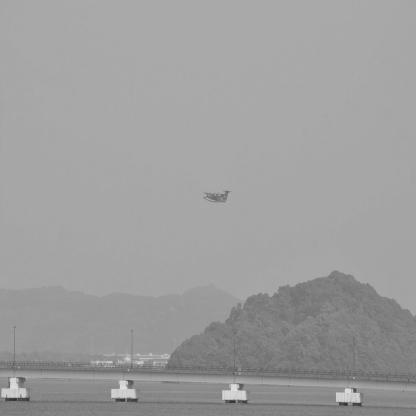US2: (204, 191, 233, 204)
